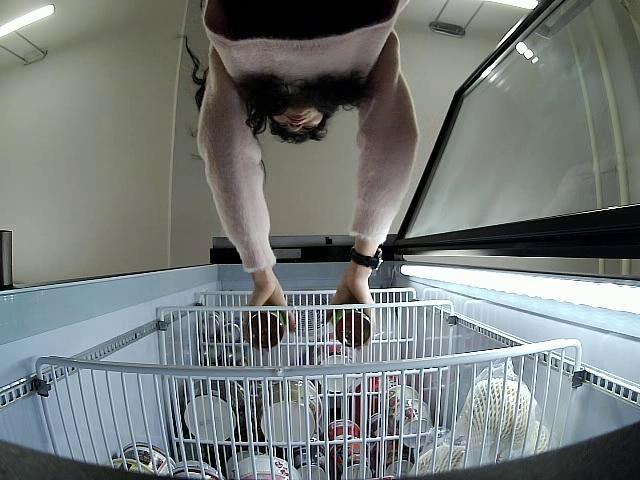19_17cha: (328, 305, 373, 348), (243, 306, 286, 348)
